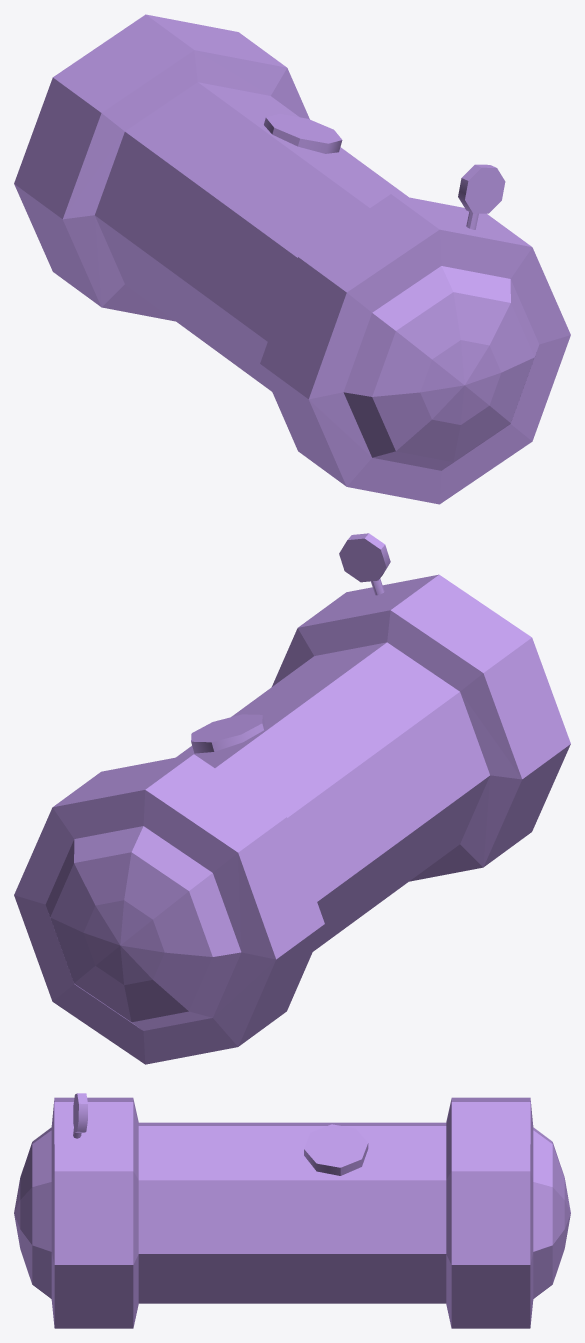
The model's file is beshoy machine small complete.FBX.
3 views of the same model, one above another, from view 1: azimuth 30°, elevation 25°; view 2: azimuth 150°, elevation 25°; view 3: azimuth 270°, elevation 25° (orthographic). The views are drawn at different scales.
Visible parts, largest first — view 1: Object001; view 2: Object001; view 3: Object001.
Boxes of the visible parts, x1,y1,x2,y2 form: Object001: (14, 14, 570, 504); Object001: (14, 533, 570, 1064); Object001: (14, 1093, 570, 1328).
Bounding box in the file's own units: 12.62 × 14.36 × 28.62.
